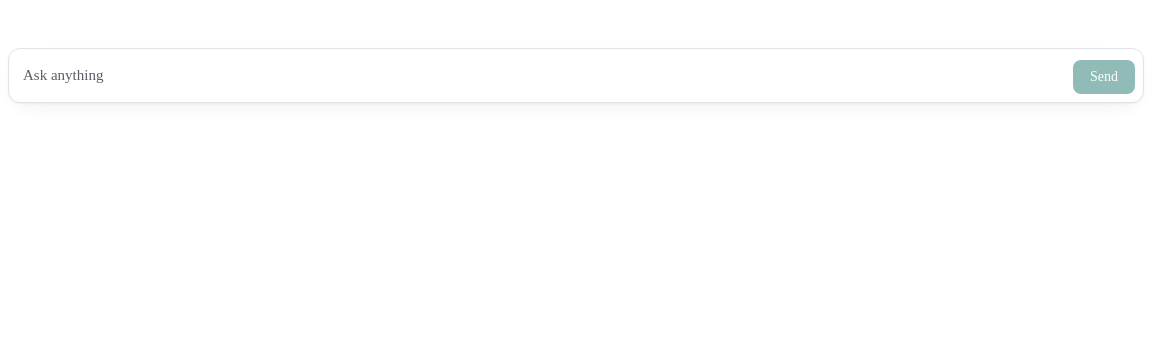
Test: ToolCallCard › moves pending -> result as stream events arrive, inline with text
Step 1. Type "time?" into the text box named "Message" → [541, 75], box [17, 57, 1065, 94]
Then press Enter
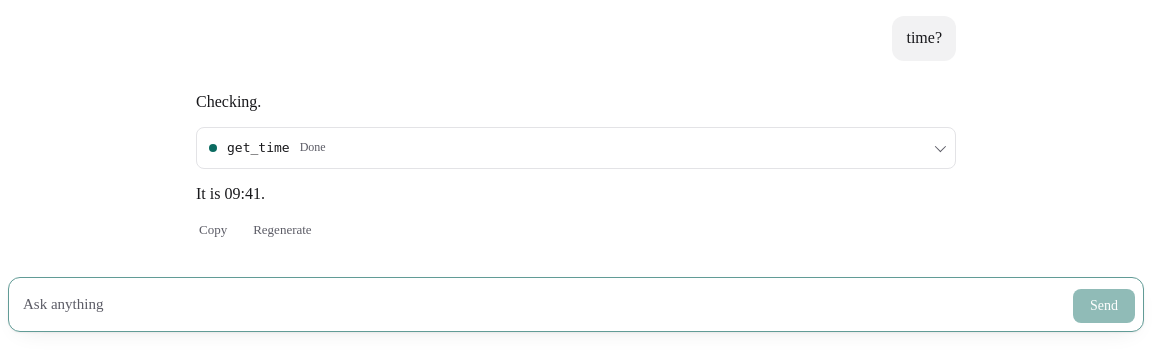
expect the text "Done" is shown: met, box [300, 138, 326, 158]
